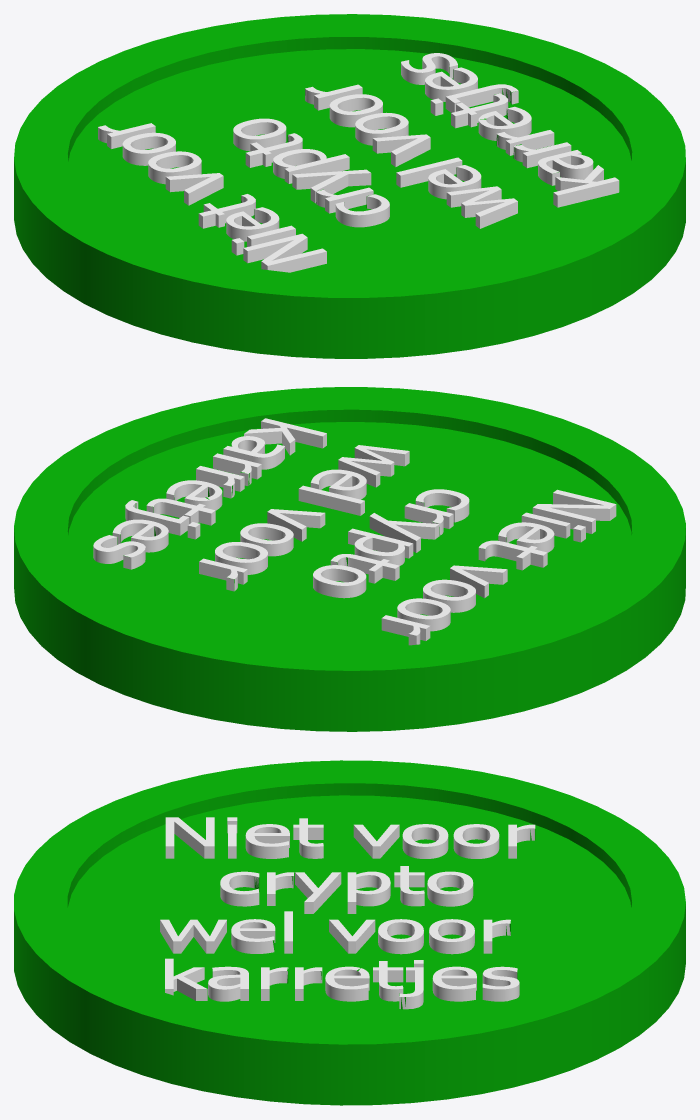
The model's file is not-for-crypto-back.glb.
The picture shows the model from 3 angles, top to bottom: view 1: azimuth 30°, elevation 25°; view 2: azimuth 150°, elevation 25°; view 3: azimuth 270°, elevation 25°; orthographic projection.
Parts seen in each view (by area): view 1: Solid1; view 2: Solid1; view 3: Solid1.
Boxes of the visible parts, left/top/right/bottom form: Solid1: left=14, top=14, right=685, bottom=358; Solid1: left=14, top=387, right=685, bottom=731; Solid1: left=14, top=760, right=685, bottom=1105.
Size of the model in its own units: 0.025 by 0.0025 by 0.025.
